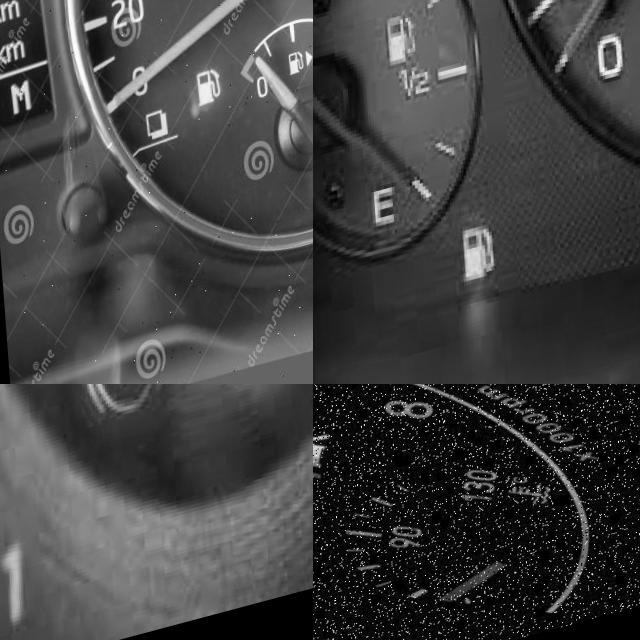Electronic Power Steering: (607, 384, 640, 461)
